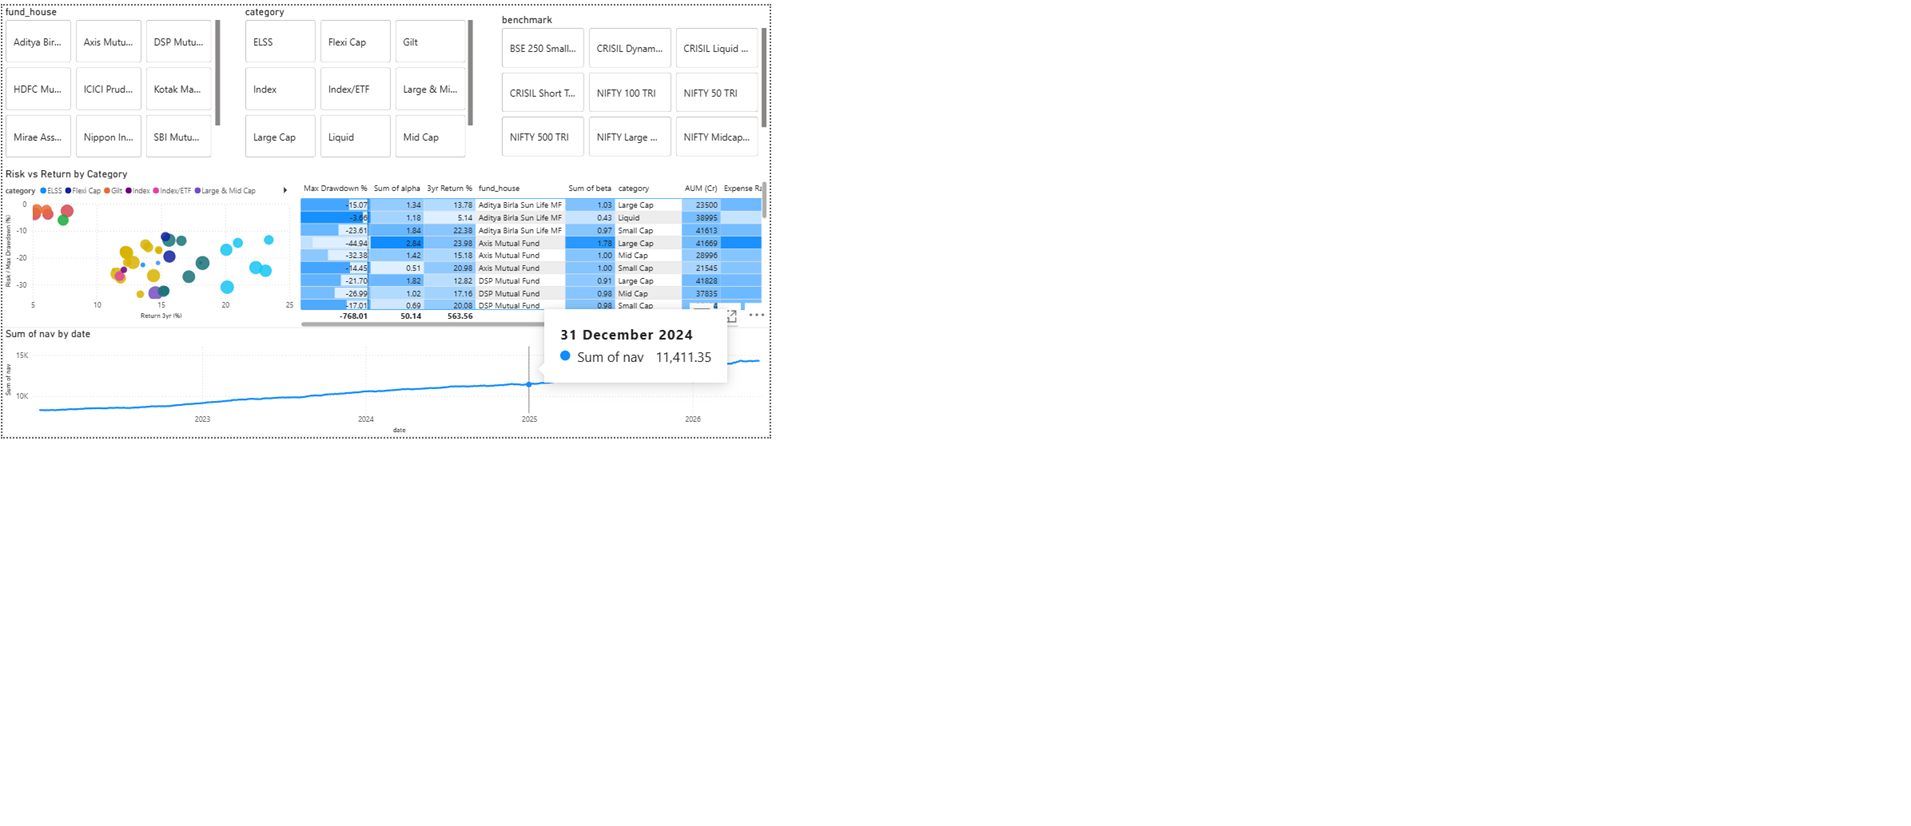

Layout of this report page (visuals, bound fields, positions):
{"tool":"powerbi","page":{"name":" Fund Performance","canvas":[1280,720],"ordinal":1},"visuals":[{"type":"advancedSlicerVisual","fields":{"Values":["clean_fund_master.fund_house"]},"box":[0,0,368.7,258.5],"z":0},{"type":"advancedSlicerVisual","fields":{"Values":["clean_scheme_performance.category"]},"box":[400,0,390.5,258.5],"z":1000},{"type":"advancedSlicerVisual","fields":{"Values":["clean_fund_master.benchmark"]},"box":[828.6,13.6,451.7,244.9],"z":2000},{"type":"scatterChart","title":"Risk vs Return by Category","fields":{"X":["clean_scheme_performance.return_3yr_pct"],"Y":["Sum(clean_scheme_performance.max_drawdown_pct)"],"Size":["Sum(clean_scheme_performance.aum_crore)"],"Series":["clean_scheme_performance.category"]},"box":[0,269.4,491.2,258.5],"z":3000},{"type":"tableEx","fields":{"Values":["Sum(clean_scheme_performance.max_drawdown_pct)","Sum(clean_scheme_performance.alpha)","Sum(clean_scheme_performance.return_3yr_pct)","clean_fund_master.fund_house","Sum(clean_scheme_performance.beta)","clean_scheme_performance.category","Sum(clean_scheme_performance.aum_crore)","Sum(clean_scheme_performance.expense_ratio_pct)"]},"box":[491.2,288.4,789.1,253.1],"z":4000},{"type":"lineChart","fields":{"Category":["clean_nav_history.date.Variation.Date Hierarchy.Year"],"Y":["Sum(clean_nav_history.nav)"]},"box":[0,537.4,1280.3,182.3],"z":5000}]}

Visuals, with their boxes on the page's 1280x720 design canvas (x1, y1, x2, y2). These are canvas units, not pixel positions in the 1911x826 screenshot, which may show the page scaled, cropped or inside an application window:
advancedSlicerVisual - clean_fund_master.fund_house: left=0, top=0, right=369, bottom=258
advancedSlicerVisual - clean_scheme_performance.category: left=400, top=0, right=790, bottom=258
advancedSlicerVisual - clean_fund_master.benchmark: left=829, top=14, right=1280, bottom=258
"Risk vs Return by Category" scatterChart: left=0, top=269, right=491, bottom=528
tableEx - Sum(clean_scheme_performance.max_drawdown_pct) x Sum(clean_scheme_performance.alpha): left=491, top=288, right=1280, bottom=542
lineChart - clean_nav_history.date.Variation.Date Hierarchy.Year x Sum(clean_nav_history.nav): left=0, top=537, right=1280, bottom=720
